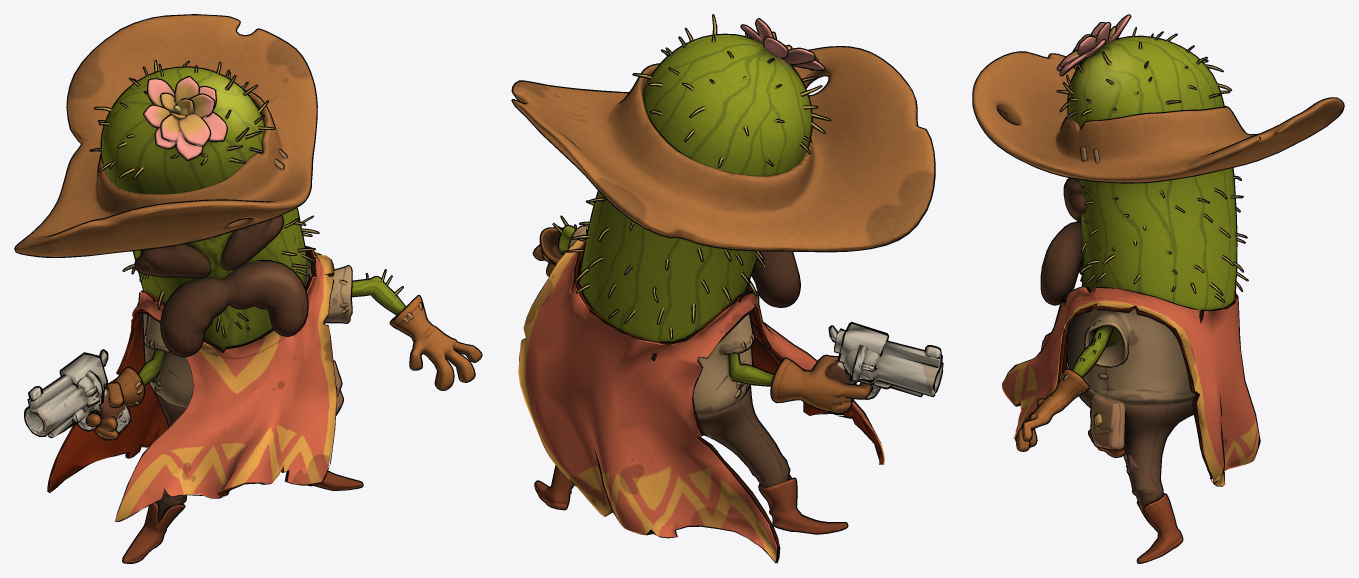
The model's file is cactus-sherif.glb.
3 views of the same model, side by side, from view 1: azimuth 30°, elevation 25°; view 2: azimuth 150°, elevation 25°; view 3: azimuth 270°, elevation 25° (orthographic). The views are drawn at different scales.
Parts seen in each view (by area): view 1: Cactus_Sheriff_Geo_0, Cactus_Sheriff_Geo.001_4, Gun_1; view 2: Cactus_Sheriff_Geo_0, Cactus_Sheriff_Geo.001_4, Gun_1; view 3: Cactus_Sheriff_Geo_0, Cactus_Sheriff_Geo.001_4.
Part boxes in pixels (bbox=[...]): Cactus_Sheriff_Geo_0: bbox=[14, 14, 482, 563]; Cactus_Sheriff_Geo.001_4: bbox=[47, 245, 336, 521]; Gun_1: bbox=[24, 349, 131, 440]; Cactus_Sheriff_Geo_0: bbox=[511, 14, 935, 534]; Cactus_Sheriff_Geo.001_4: bbox=[518, 228, 884, 563]; Gun_1: bbox=[825, 321, 943, 415]; Cactus_Sheriff_Geo_0: bbox=[972, 14, 1344, 563]; Cactus_Sheriff_Geo.001_4: bbox=[1002, 286, 1260, 486].
Bounding box in the file's own units: 1.68 × 1.82 × 1.35.
4 materials, 3 textured.
